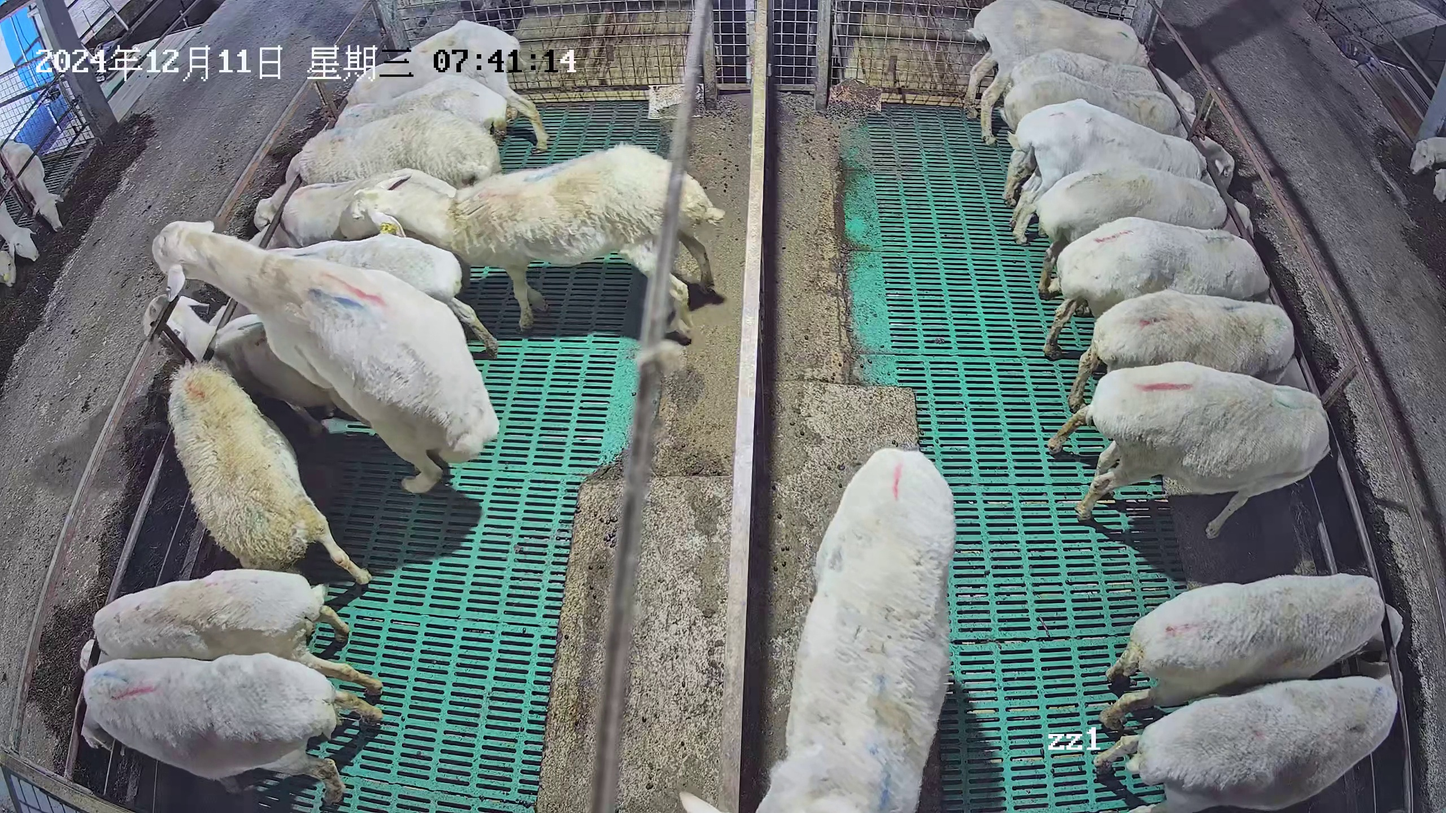Smounting: (136, 218, 502, 496)
mounted: (141, 291, 381, 440)
